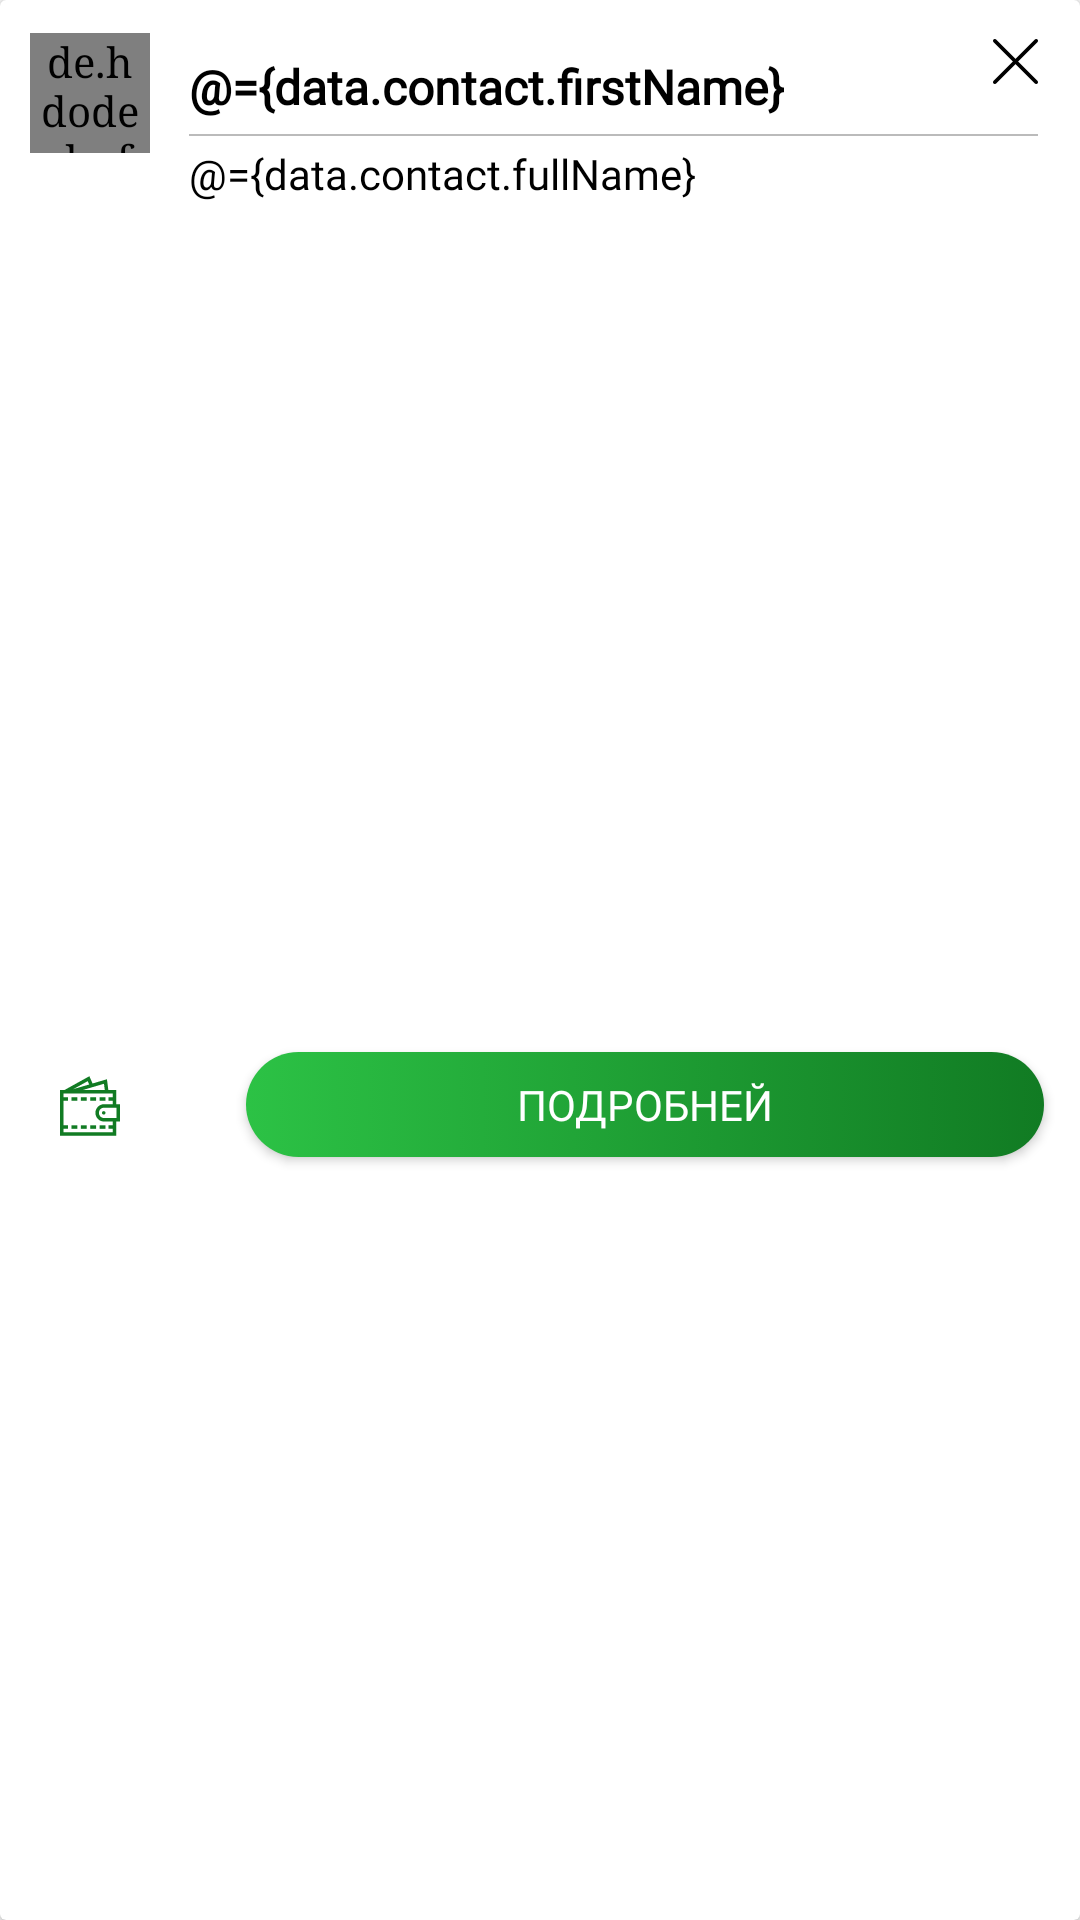

Where icons sit on this 1080×1920 app screen, as bbox(x1, y1, x2, y2):
close: bbox(993, 39, 1038, 84)
